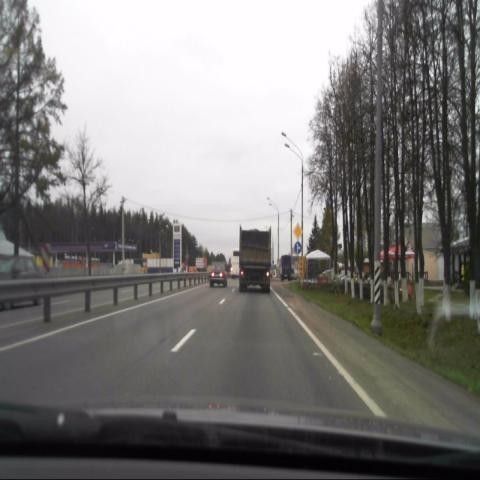2_1: (292, 224, 302, 242)
4_1_4: (294, 241, 301, 254)
